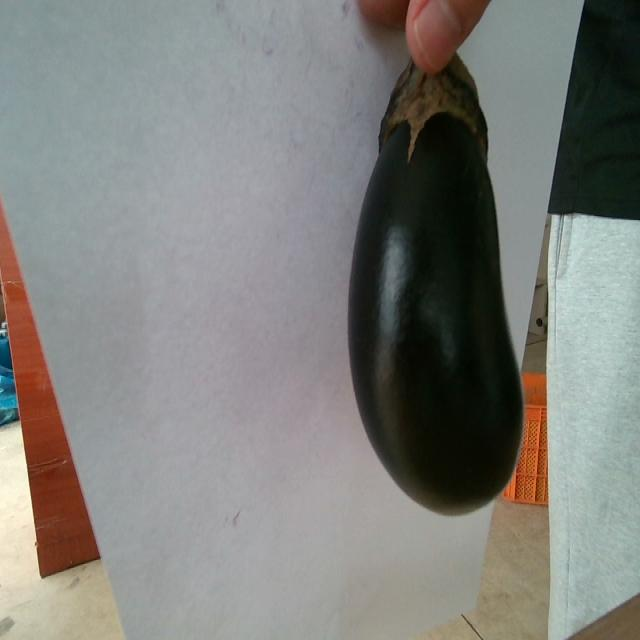Egg plant: (348, 56, 522, 513)
